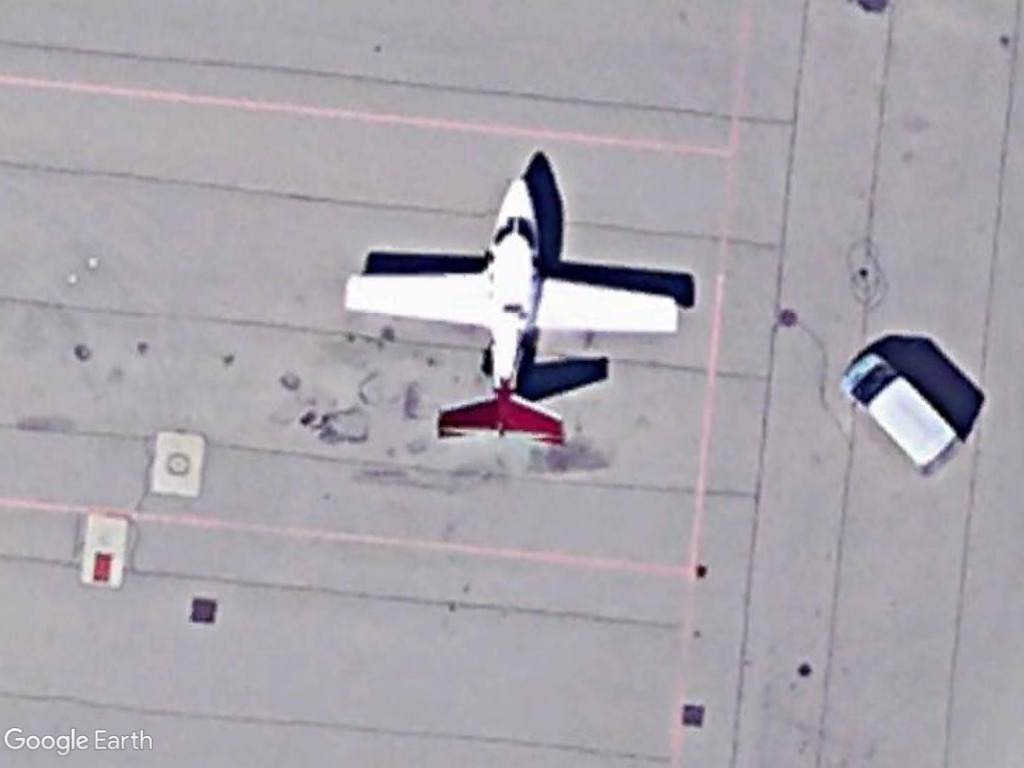trainer: (340, 170, 692, 459)
van: (836, 348, 959, 478)
